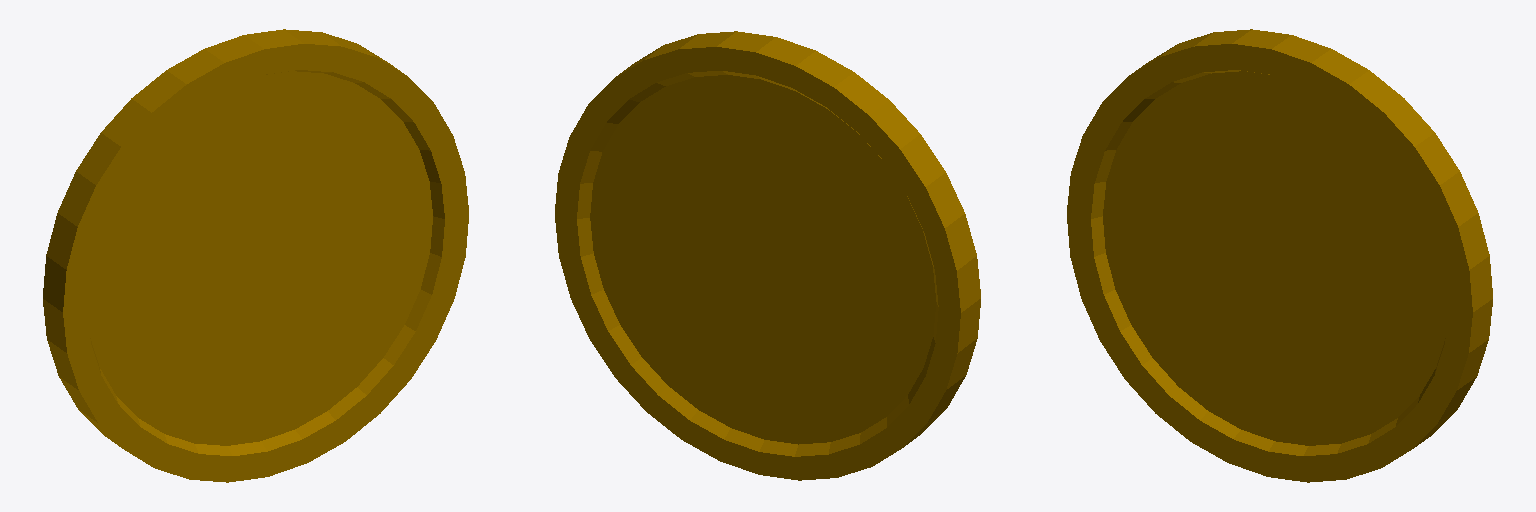
File: coin.obj
3 views of the same model, side by side, from view 1: azimuth 30°, elevation 25°; view 2: azimuth 150°, elevation 25°; view 3: azimuth 330°, elevation 25° (orthographic).
Parts seen in each view (by area): view 1: Cylinder.001; view 2: Cylinder.001; view 3: Cylinder.001.
Boxes of the visible parts, x1,y1,x2,y2 form: Cylinder.001: [43, 29, 468, 482]; Cylinder.001: [555, 31, 980, 480]; Cylinder.001: [1067, 29, 1492, 482].
Size of the model in its own units: 0.9828 by 0.984 by 0.1.